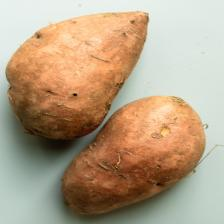potato: (4, 10, 150, 140), (60, 95, 206, 215)
